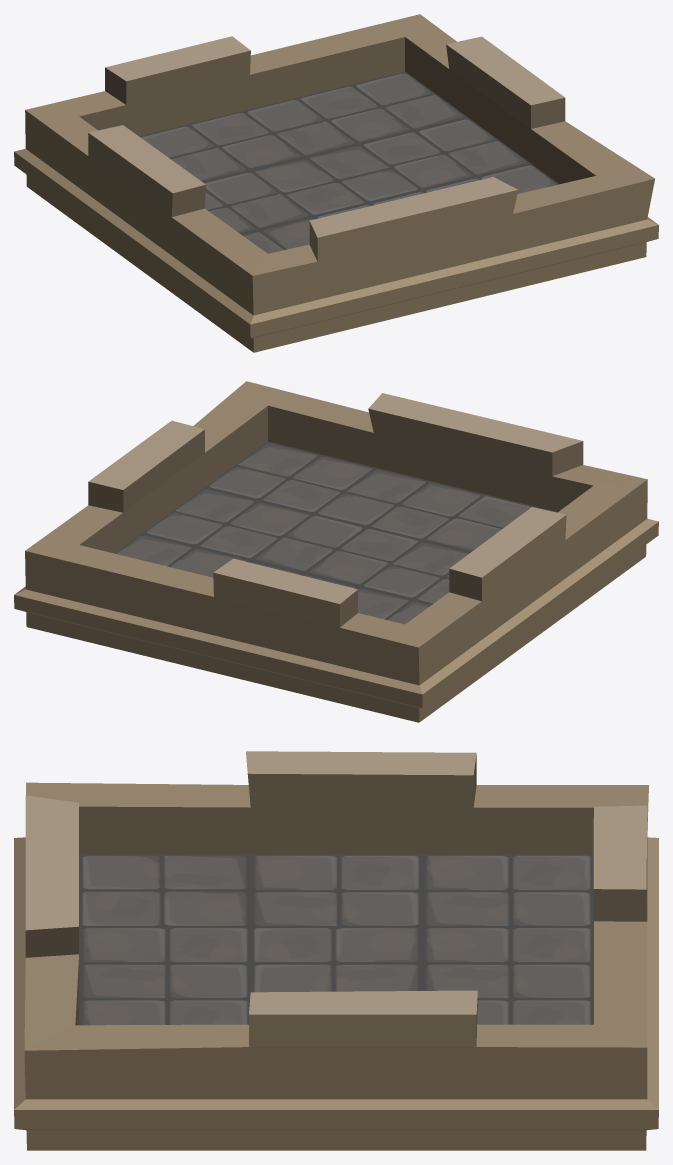
The model's file is RoofTop_B07.fbx.
3 renders of one model, top to bottom at view 1: azimuth 30°, elevation 25°; view 2: azimuth 150°, elevation 25°; view 3: azimuth 270°, elevation 25°, orthographic. The views are drawn at different scales.
Visible parts, largest first — view 1: RoofTop_B07; view 2: RoofTop_B07; view 3: RoofTop_B07.
Boxes of the visible parts, x1,y1,x2,y2 form: RoofTop_B07: [14, 14, 658, 352]; RoofTop_B07: [14, 381, 658, 722]; RoofTop_B07: [14, 751, 658, 1150].
Bounding box in the file's own units: 638 × 150 × 639.
